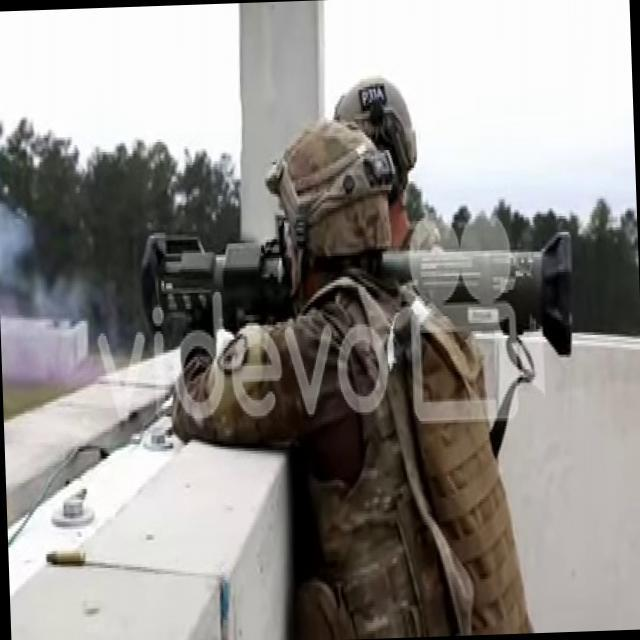rocket: (142, 208, 576, 384)
